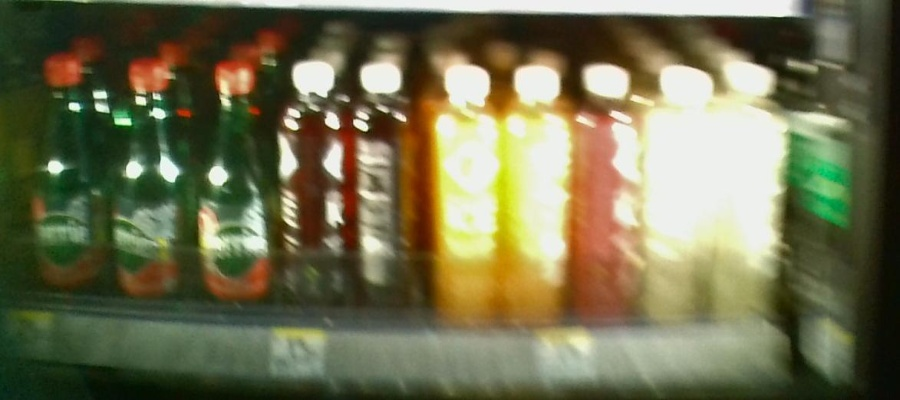bottle: (428, 66, 506, 327), (110, 49, 192, 295), (576, 59, 647, 329), (275, 58, 350, 311), (720, 66, 794, 320), (199, 54, 273, 303), (31, 52, 106, 294), (353, 62, 421, 309), (652, 61, 716, 320), (511, 66, 572, 329)
